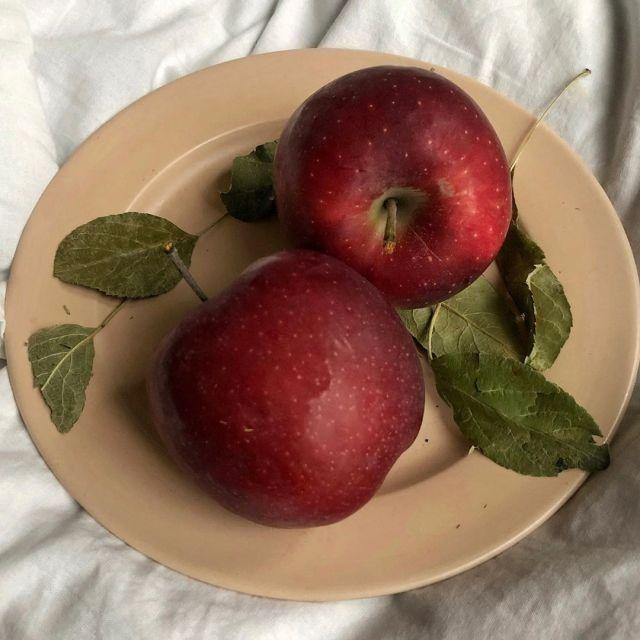apple: (148, 250, 423, 526), (274, 66, 511, 307)
